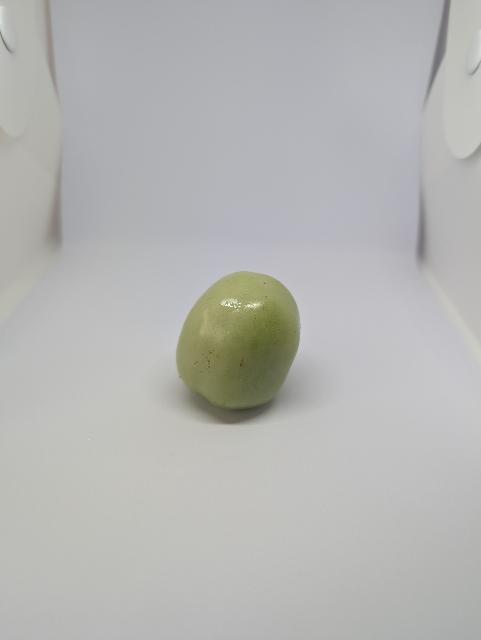green: (155, 251, 319, 429)
